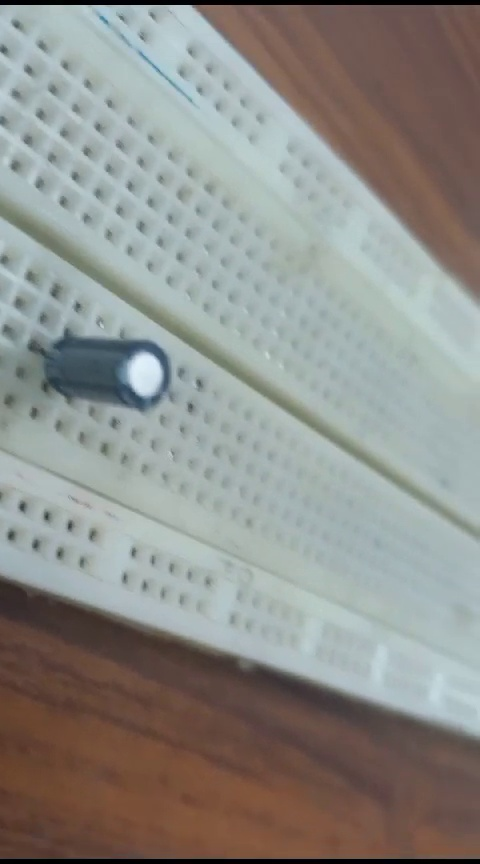capacitor: (23, 313, 171, 425)
